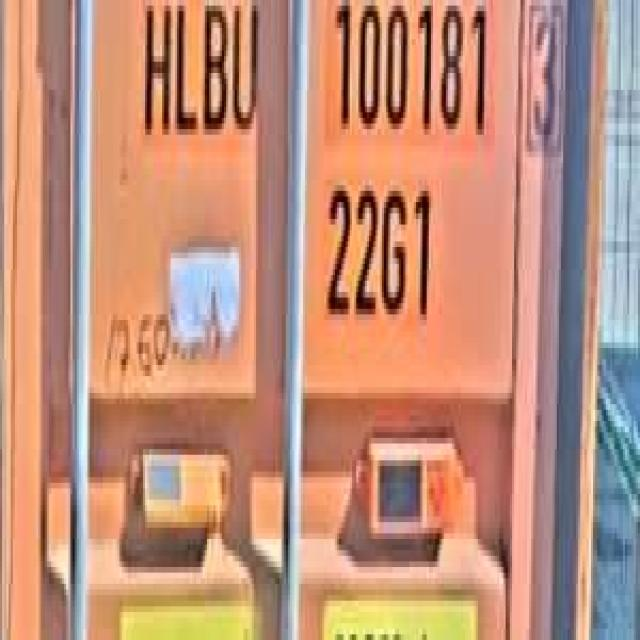dv: (520, 0, 568, 157)
owner: (134, 0, 264, 157)
serial: (328, 0, 493, 157)
size: (318, 168, 437, 342)
